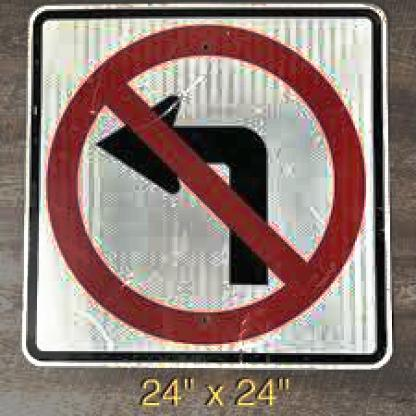No left turn: (40, 18, 358, 356)
